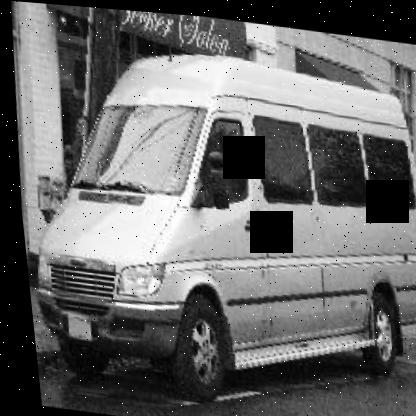not_emergency: (3, 34, 415, 415)
